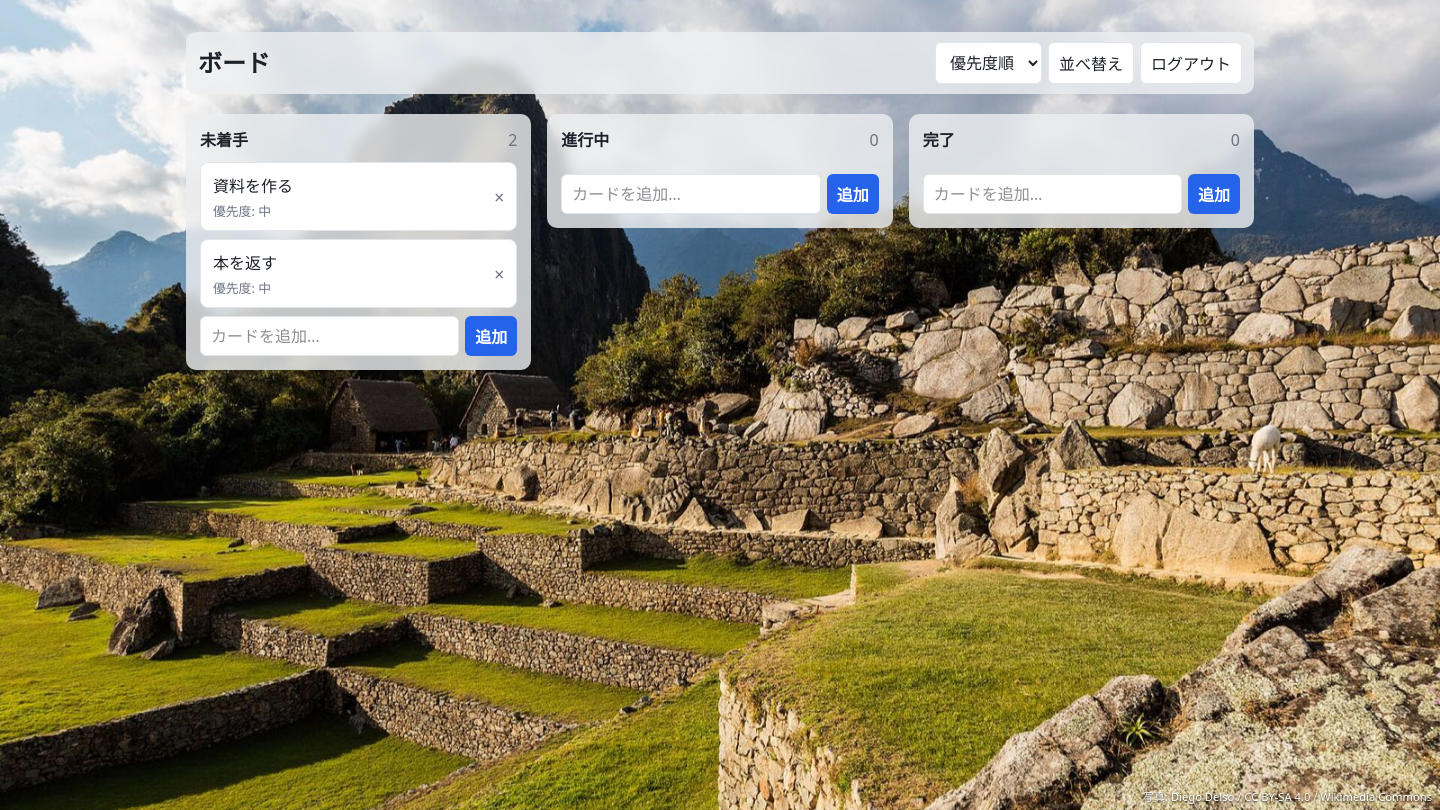
Scenario: タスク詳細画面 › 削除は確認してから行い、画面を閉じる
Step 1. Click the text "資料を作る" → [253, 186], box [213,175,293,197]
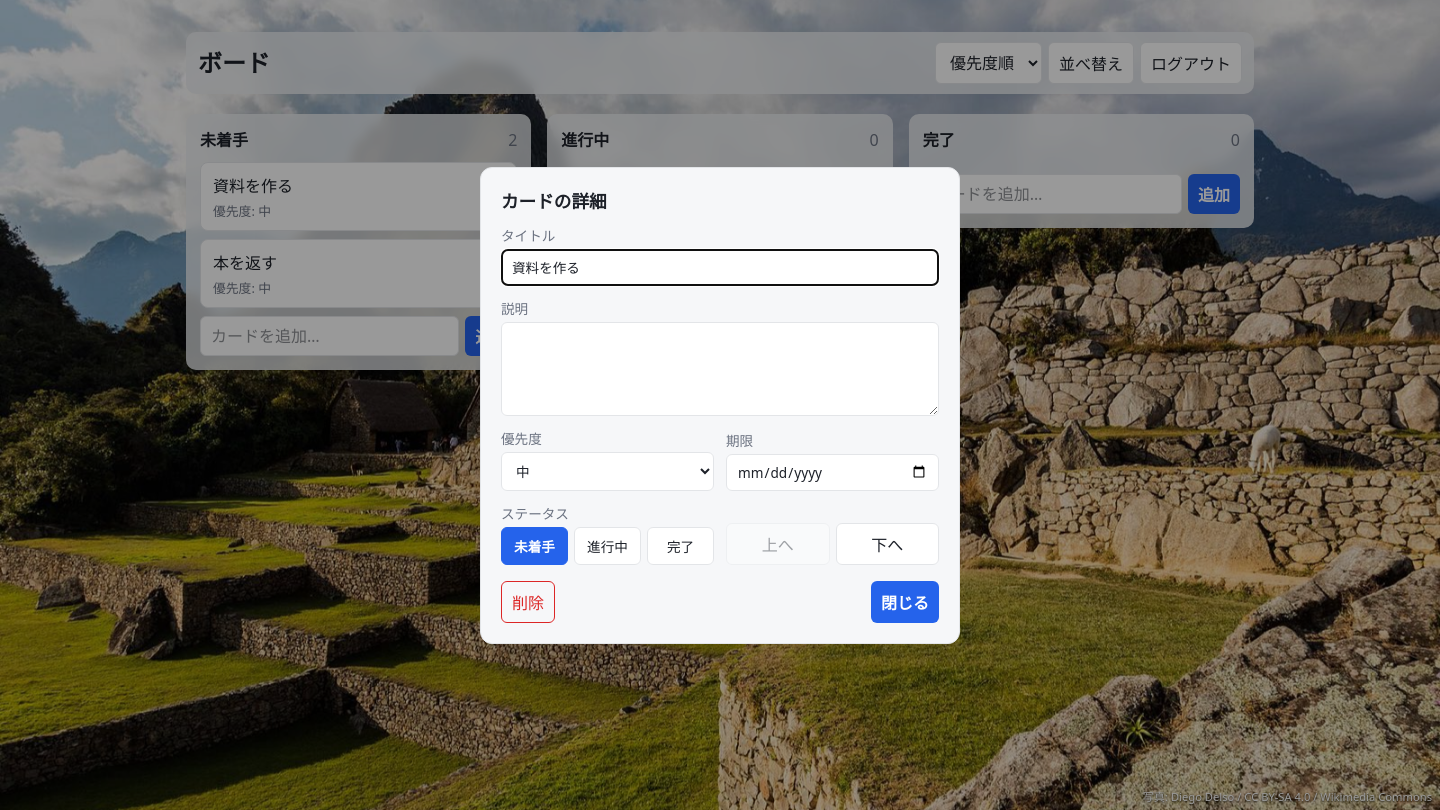
Step 2. Click the button "削除" → [528, 602], box [501,580,555,622]
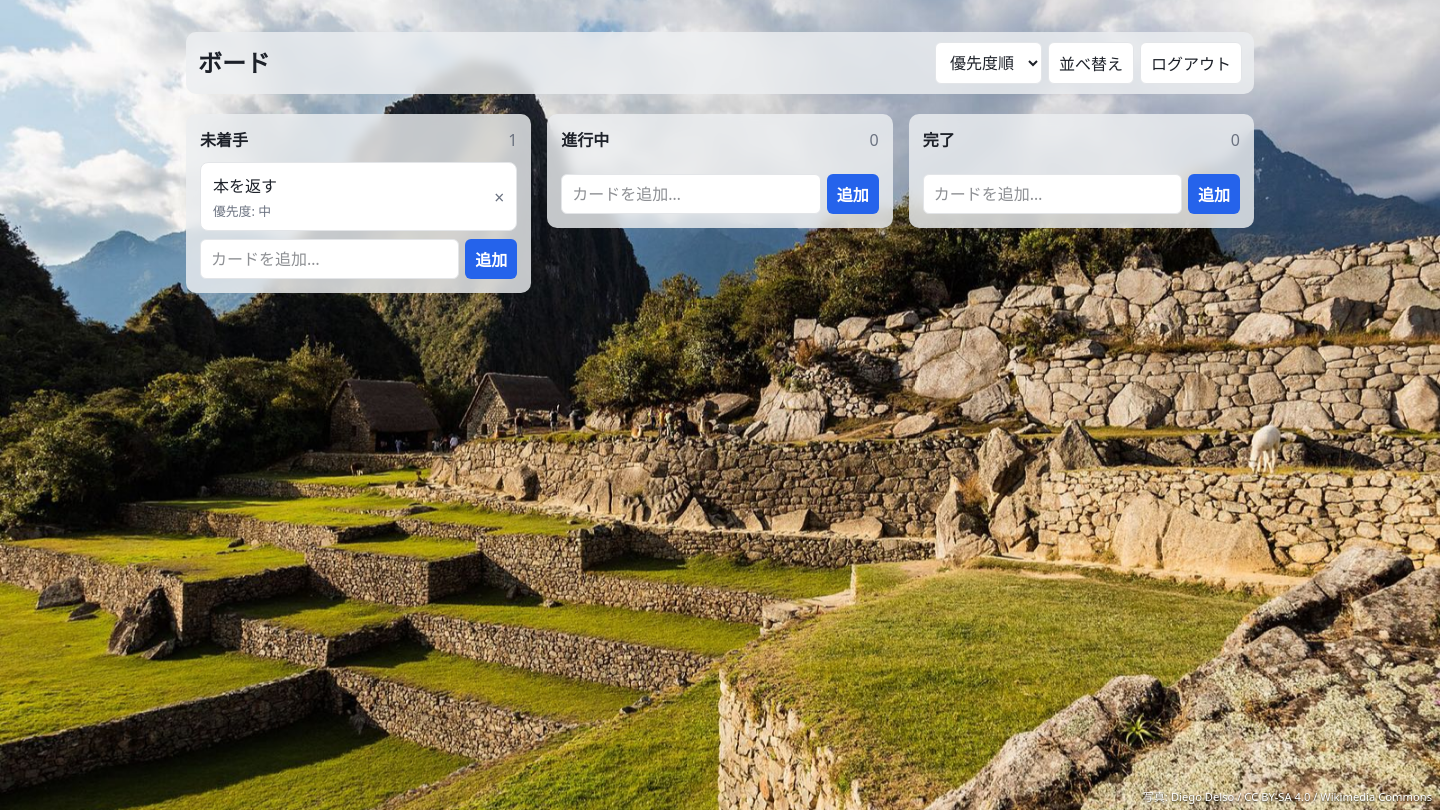
Expected: the dialog is gone
Expected: the button "資料を作る" is gone
